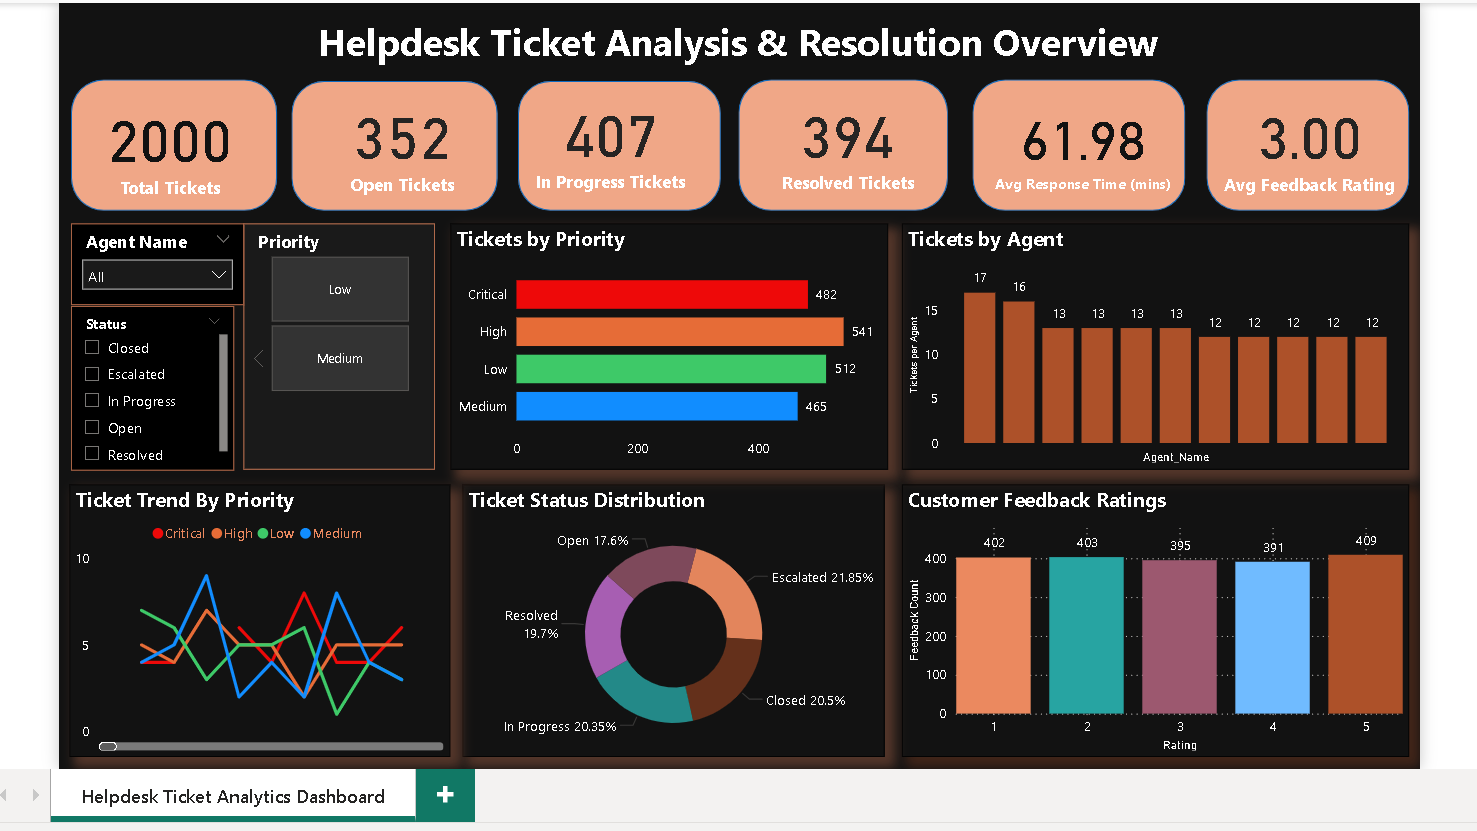

Layout of this report page (visuals, bound fields, positions):
{"tool":"powerbi","page":{"name":"Helpdesk Ticket Analytics Dashboard","canvas":[1280,720],"ordinal":0},"visuals":[{"type":"shape","box":[431.4,73.5,190.7,121.9],"z":0},{"type":"shape","box":[639.3,71.9,196.9,123.5],"z":1000},{"type":"shape","box":[858.1,71.9,200.1,123.5],"z":2000},{"type":"shape","box":[1078.5,71.9,190.7,123.5],"z":3000},{"type":"card","fields":{"Values":["MEASURE Table.Avg Response Time (mins)"]},"box":[853.4,57.8,218.8,150],"z":4000},{"type":"card","fields":{"Values":["agents.Avg Feedback Rating"]},"box":[1072.2,56.3,207.9,150],"z":5000},{"type":"shape","box":[10.9,71.9,193.8,123.5],"z":6000},{"type":"card","fields":{"Values":["MEASURE Table.Total Tickets"]},"box":[0,59.4,207.9,150],"z":7000},{"type":"card","fields":{"Values":["agents.Resolved Tickets"]},"box":[637.7,54.7,207.9,150],"z":8000},{"type":"card","fields":{"Values":["agents.Helpdesk_Title"]},"box":[60,0,1155,71.9],"z":10000},{"type":"donutChart","title":"Ticket Status Distribution","fields":{"Y":["agents.Tickets by Status"],"Category":["tickets.Status"]},"box":[379.8,453.3,397,256.3],"z":11000},{"type":"clusteredBarChart","title":"Tickets by Priority","fields":{"Y":["agents.Tickets by Priority"],"Category":["tickets.Priority"]},"box":[367.3,207.9,411.1,231.3],"z":12000},{"type":"columnChart","title":"Tickets by Agent ","fields":{"Category":["agents.Agent_Name"],"Y":["MEASURE Table.Tickets per Agent"]},"box":[792.4,207.9,476.7,231.3],"z":13000},{"type":"clusteredColumnChart","title":"Customer Feedback Ratings","fields":{"Category":["feedback.Rating"],"Y":["MEASURE Table.Feedback Count"]},"box":[792.4,453.3,476.7,256.3],"z":14000},{"type":"slicer","fields":{"Values":["tickets.Priority"]},"box":[173.5,207.9,179.7,231.3],"z":15000},{"type":"slicer","fields":{"Values":["tickets.Status"]},"box":[10.9,284.5,153.2,154.7],"z":16000},{"type":"slicer","fields":{"Values":["agents.Agent_Name"]},"box":[10.9,207.9,162.6,76.6],"z":17000},{"type":"lineChart","title":"Ticket Trend By Priority ","fields":{"Category":["tickets.Created_Date"],"Y":["users.Tickets Created"],"Series":["tickets.Priority"]},"box":[9.4,453.3,357.9,256.3],"z":18000},{"type":"card","fields":{"Values":["MEASURE Table.In Progress Tickets"]},"box":[414.2,54.7,207.9,148.5],"z":20000},{"type":"shape","box":[218.8,73.5,193.8,121.9],"z":21000},{"type":"card","fields":{"Values":["MEASURE Table.Open Tickets"]},"box":[218.8,56.3,207.9,150],"z":21500}]}

Visuals, with their boxes on the page's 1280x720 design canvas (x1, y1, x2, y2). These are canvas units, not pixel positions in the 1477x831 screenshot, which may show the page scaled, cropped or inside an application window:
shape: <box>431,74,622,195</box>
shape: <box>639,72,836,195</box>
shape: <box>858,72,1058,195</box>
shape: <box>1078,72,1269,195</box>
card - MEASURE Table.Avg Response Time (mins): <box>853,58,1072,208</box>
card - agents.Avg Feedback Rating: <box>1072,56,1280,206</box>
shape: <box>11,72,205,195</box>
card - MEASURE Table.Total Tickets: <box>0,59,208,209</box>
card - agents.Resolved Tickets: <box>638,55,846,205</box>
card - agents.Helpdesk_Title: <box>60,0,1215,72</box>
"Ticket Status Distribution" donutChart: <box>380,453,777,710</box>
"Tickets by Priority" clusteredBarChart: <box>367,208,778,439</box>
"Tickets by Agent " columnChart: <box>792,208,1269,439</box>
"Customer Feedback Ratings" clusteredColumnChart: <box>792,453,1269,710</box>
slicer - tickets.Priority: <box>174,208,353,439</box>
slicer - tickets.Status: <box>11,284,164,439</box>
slicer - agents.Agent_Name: <box>11,208,174,284</box>
"Ticket Trend By Priority " lineChart: <box>9,453,367,710</box>
card - MEASURE Table.In Progress Tickets: <box>414,55,622,203</box>
shape: <box>219,74,413,195</box>
card - MEASURE Table.Open Tickets: <box>219,56,427,206</box>
